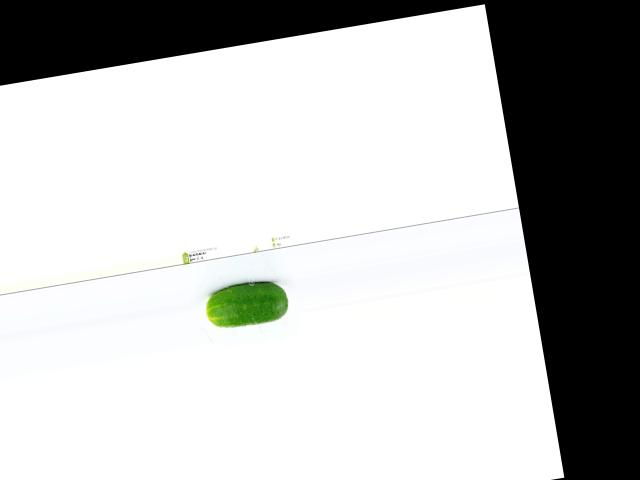cucumber: (203, 276, 291, 331)
